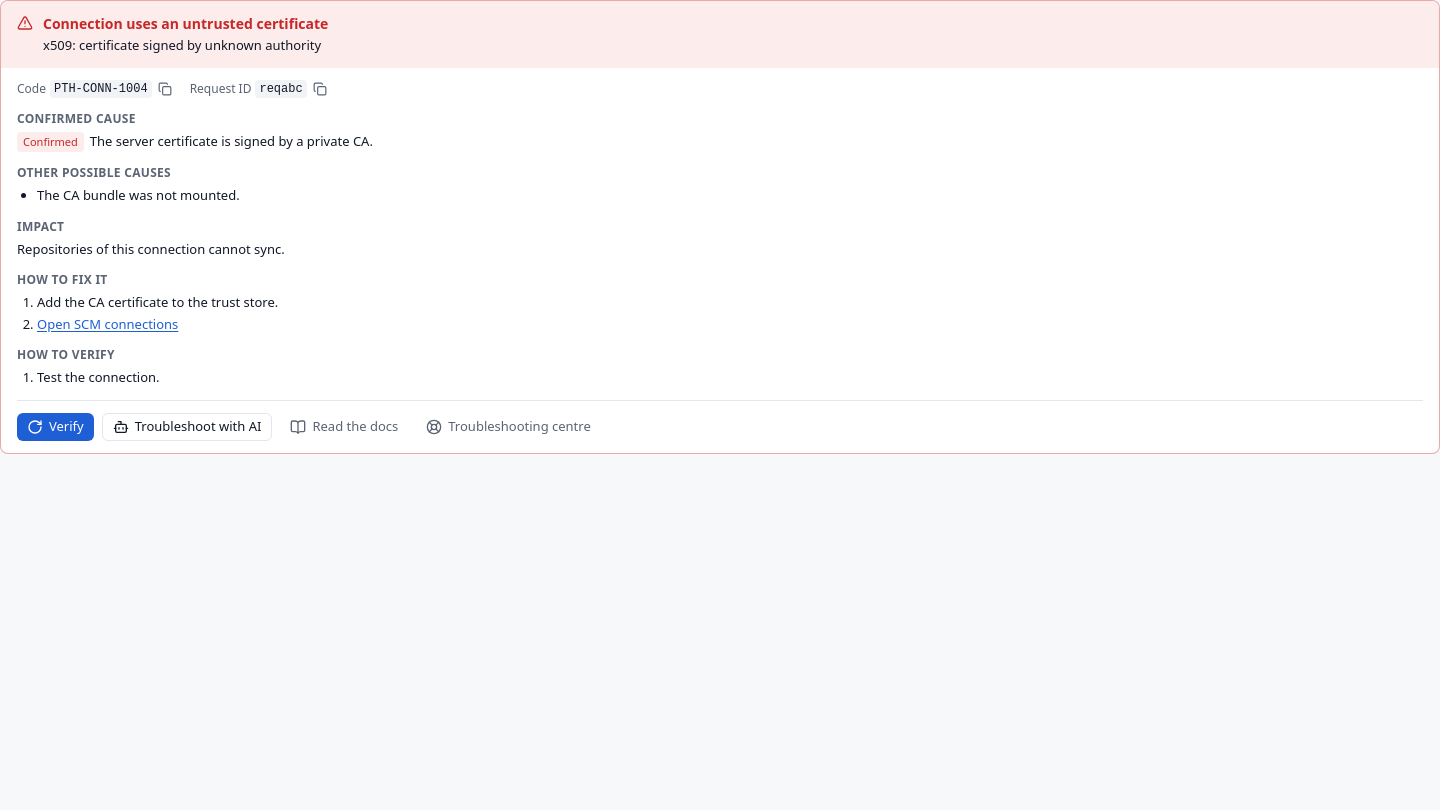
ErrorPanel › shows the catalogue answer when AI is off
The width and height of the screenshot is (1440, 810).
Click the button "Troubleshoot with AI" at [187, 426], box [102,412,272,440]
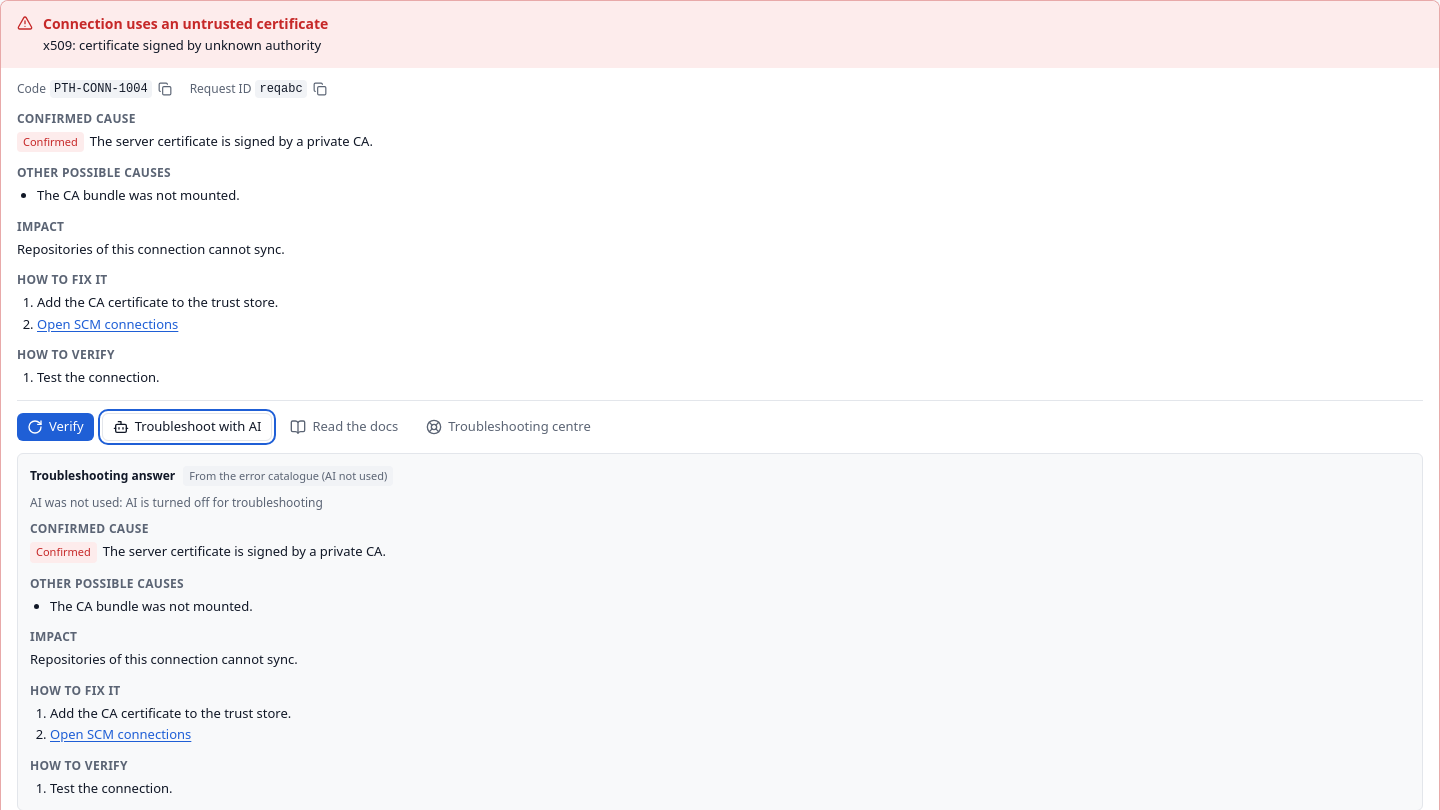
Check: the text "From the error catalogue (AI not used)" is shown, box [183,466,393,486]
Check: the text "AI was not used: AI is turned off for troubleshooting" is shown, box [30,494,323,511]
